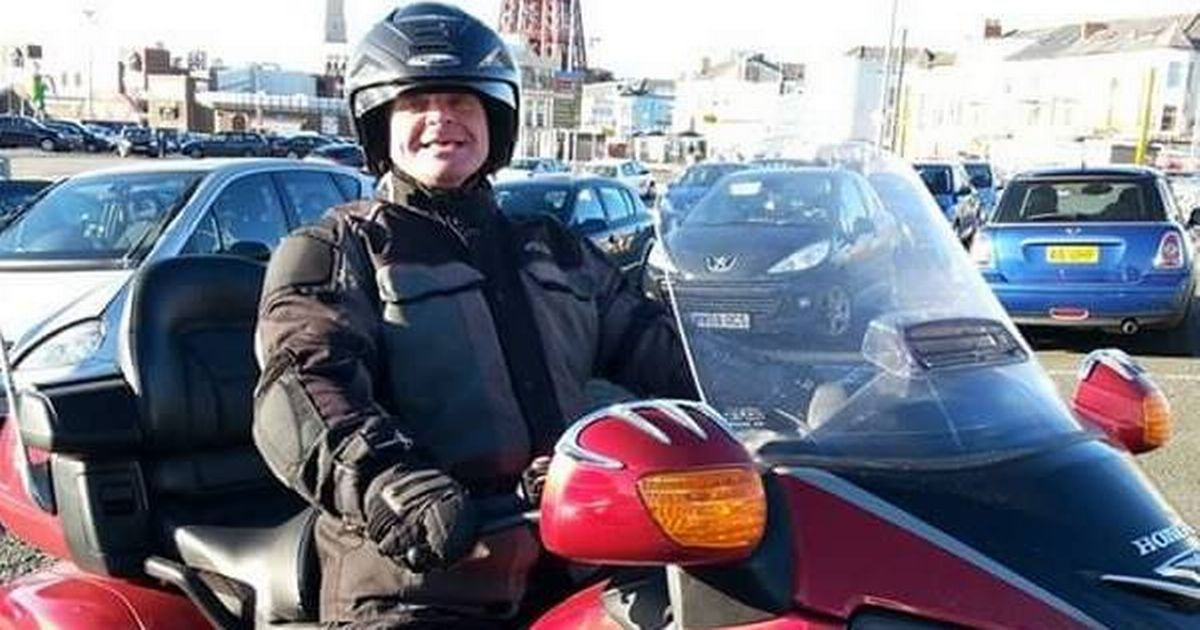helmet: (321, 1, 527, 199)
